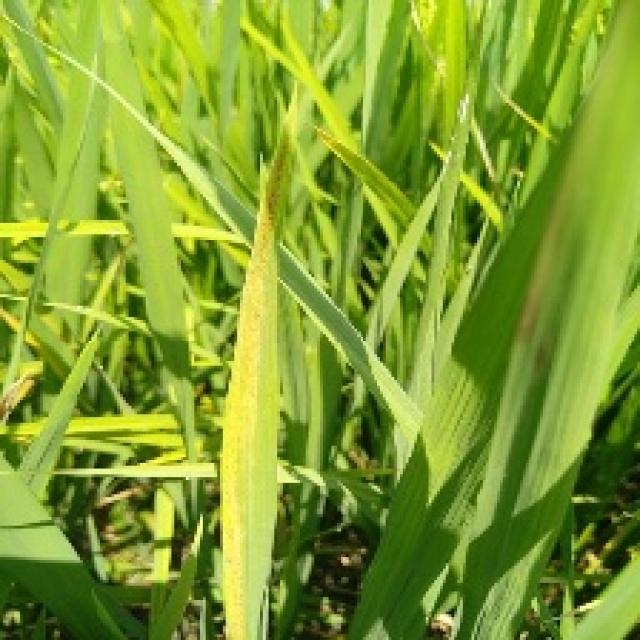Unhealthy: (218, 93, 296, 640), (518, 280, 550, 337)
